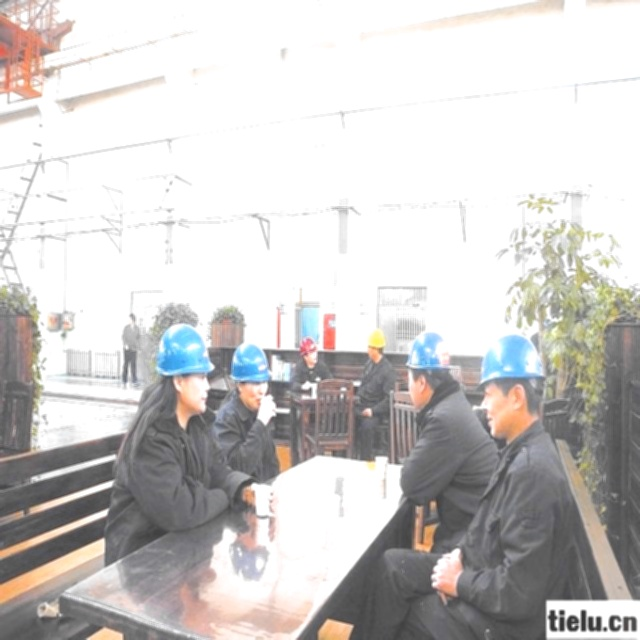Con_Casco: (476, 332, 547, 433), (158, 322, 208, 410)
